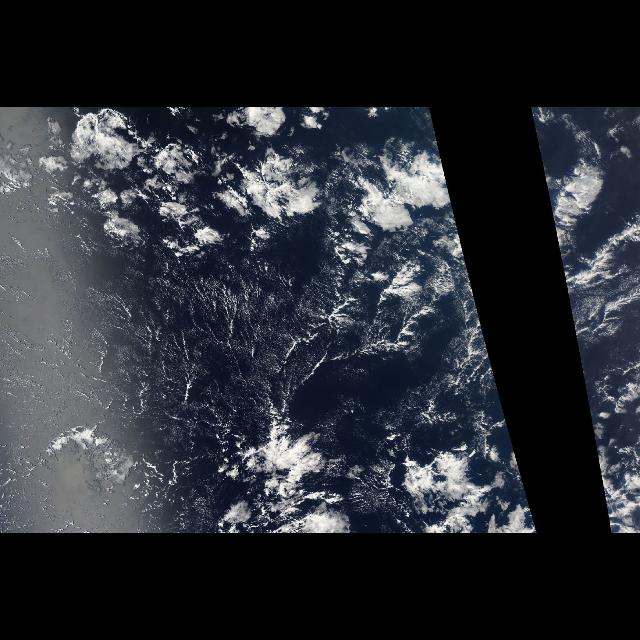Flower: (4, 107, 466, 263)
Gravel: (21, 289, 316, 407)
Sugar: (1, 263, 322, 429)
